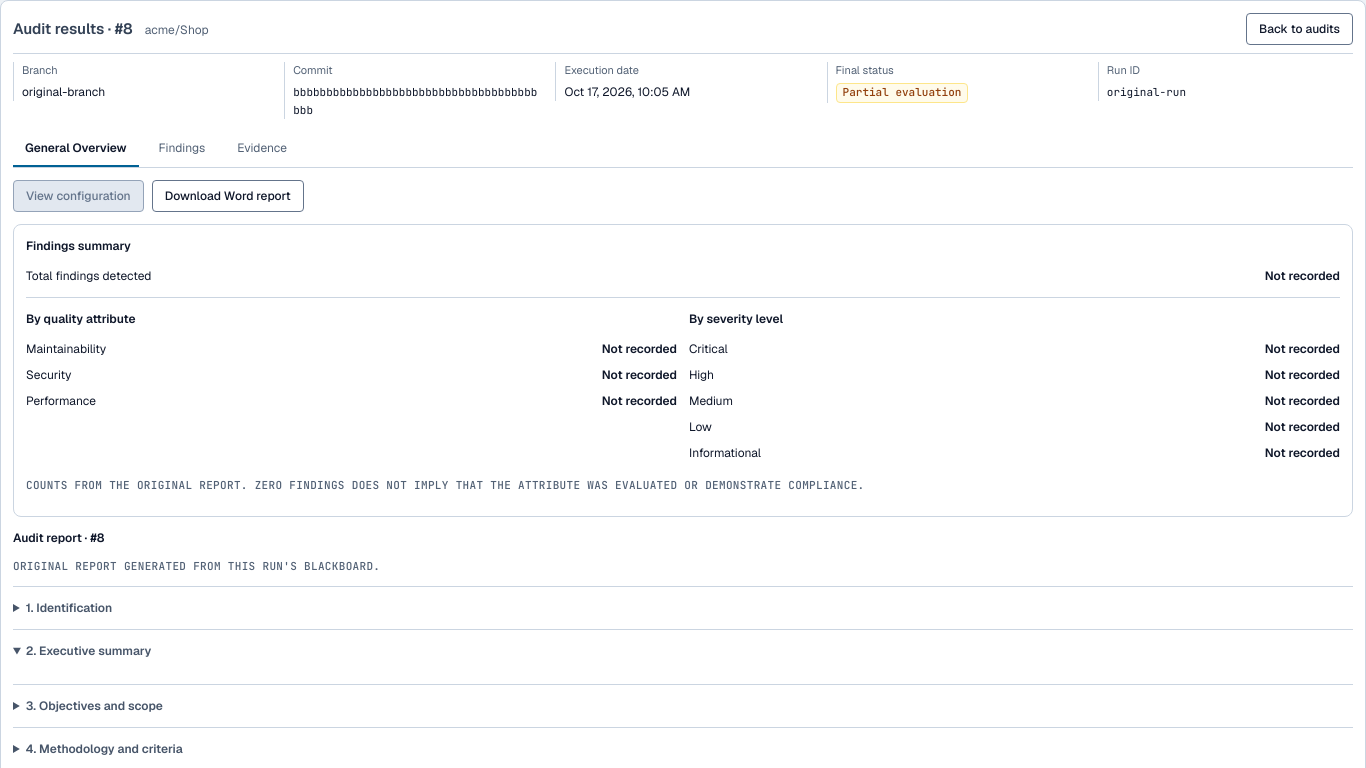
Test case: dedicated audit results › paginates cached findings by severity without downloading another report or section
This screenshot has width=1366, height=768.
Expected: the element "Findings summary" is shown, [13,224,1353,517]
Click the tab "Findings". click: (182, 148)
box: [147,130,217,166]
(page scrolled)
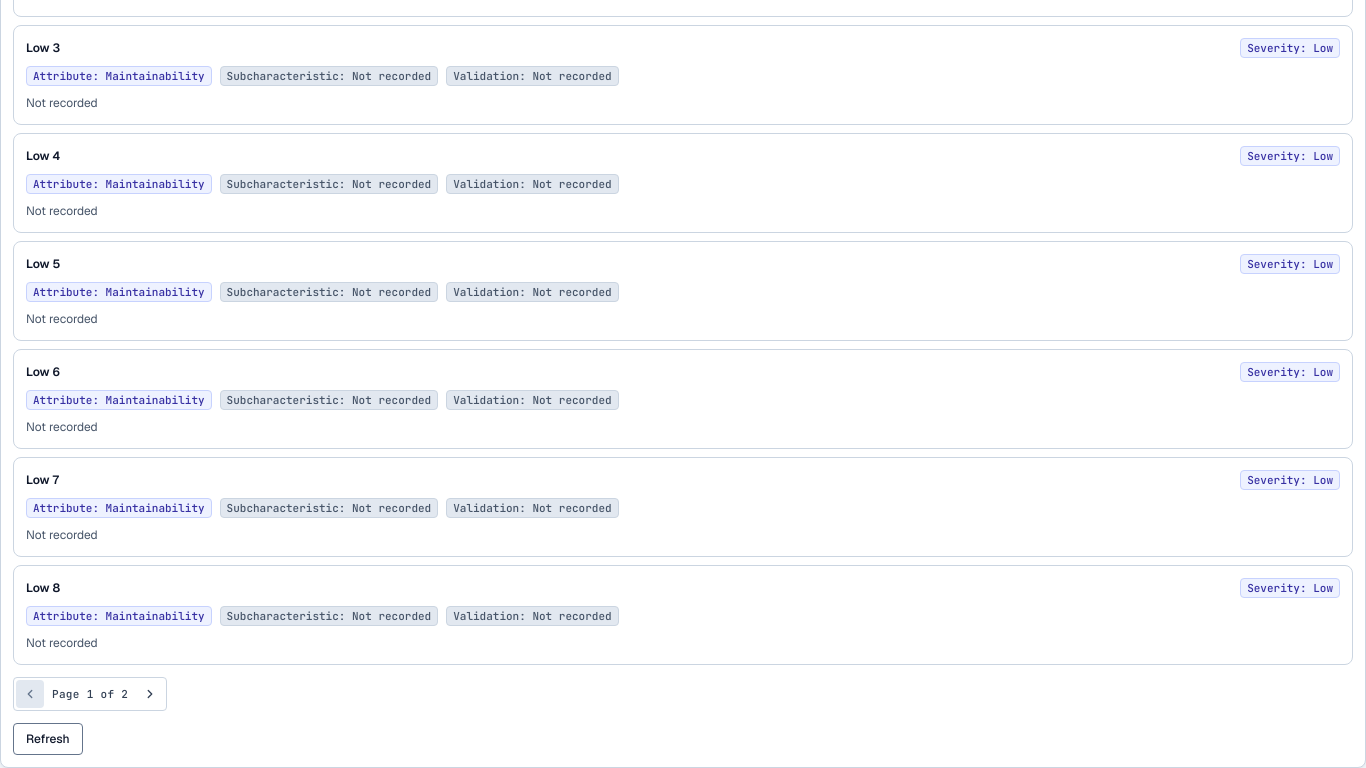
Click the button named "Next page". click: (150, 694)
box: [136,680,164,708]
(page scrolled)
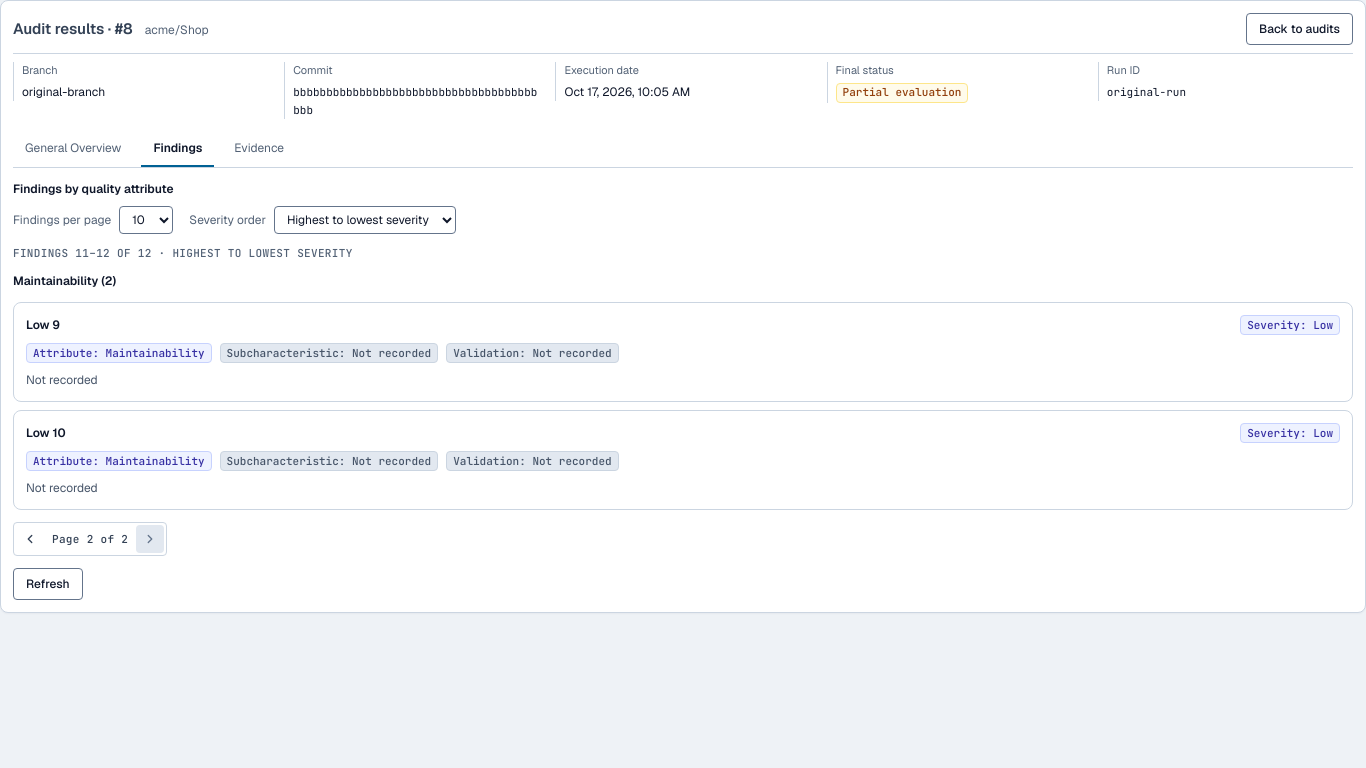
Expected: the headings read "Low 9", "Low 10", in this order, [26,316,60,334]; [26,424,66,442]
Click the button named "Previous page". click: (30, 539)
box: [16,525,44,553]
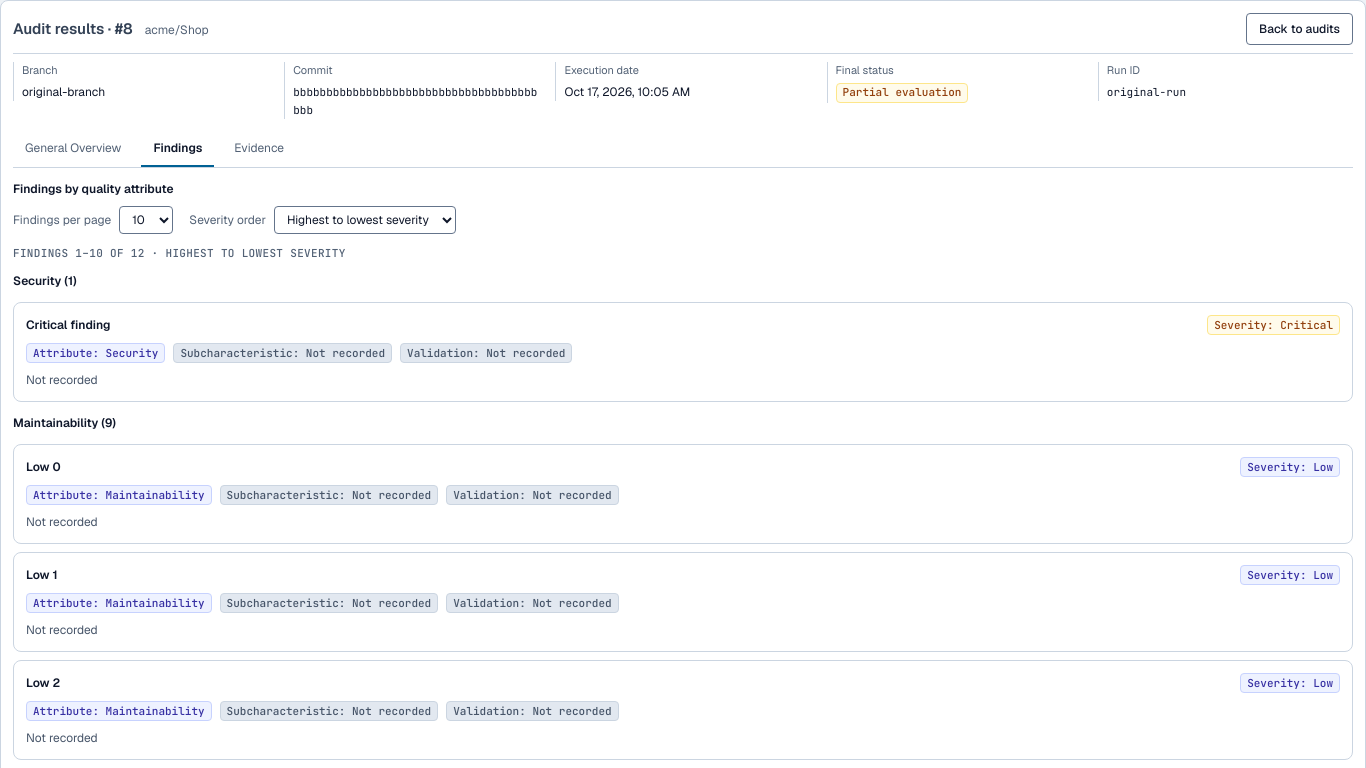
Select "20" in the dropdown labelled "Findings per page". click: (146, 220)
box: [119,206,173,234]
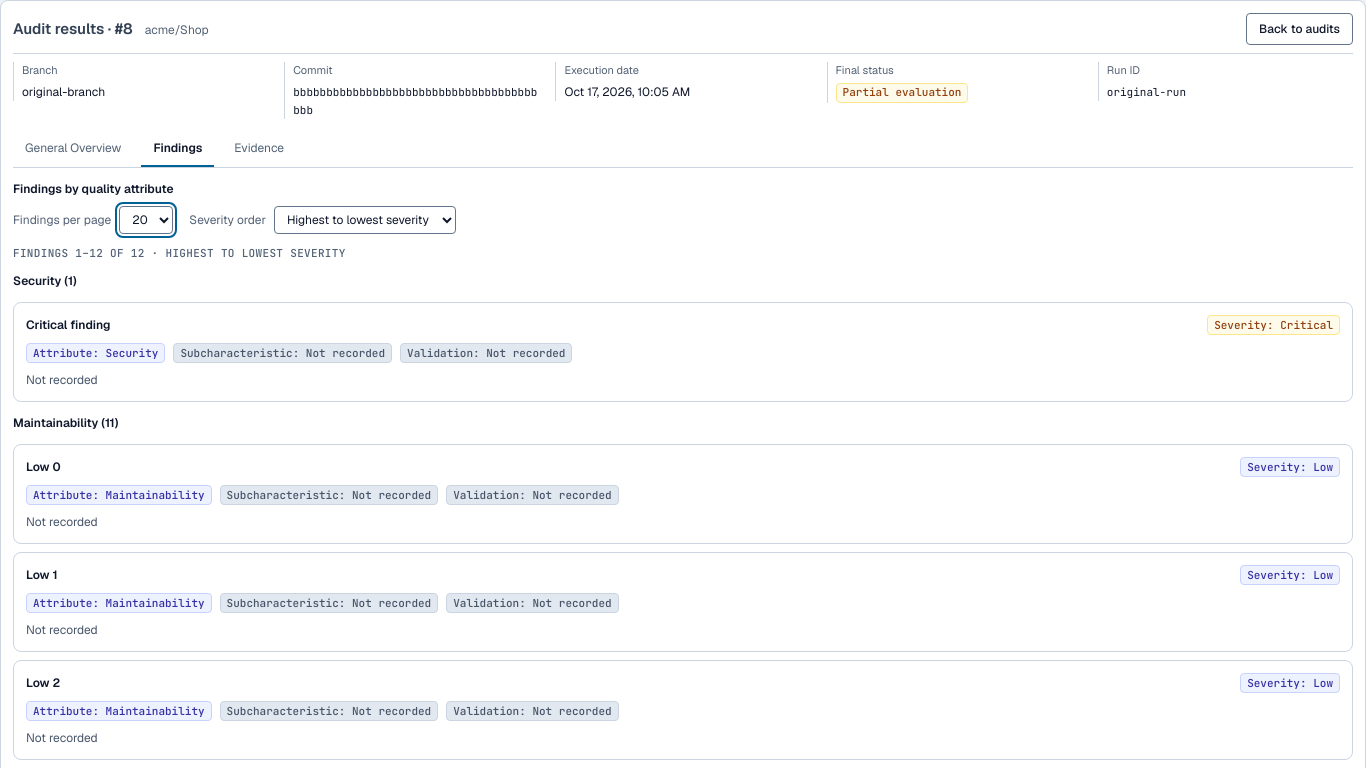
Select "Lowest to highest severity" in the dropdown labelled "Severity order". click: (365, 220)
box: [274,206,456,234]
(page scrolled)
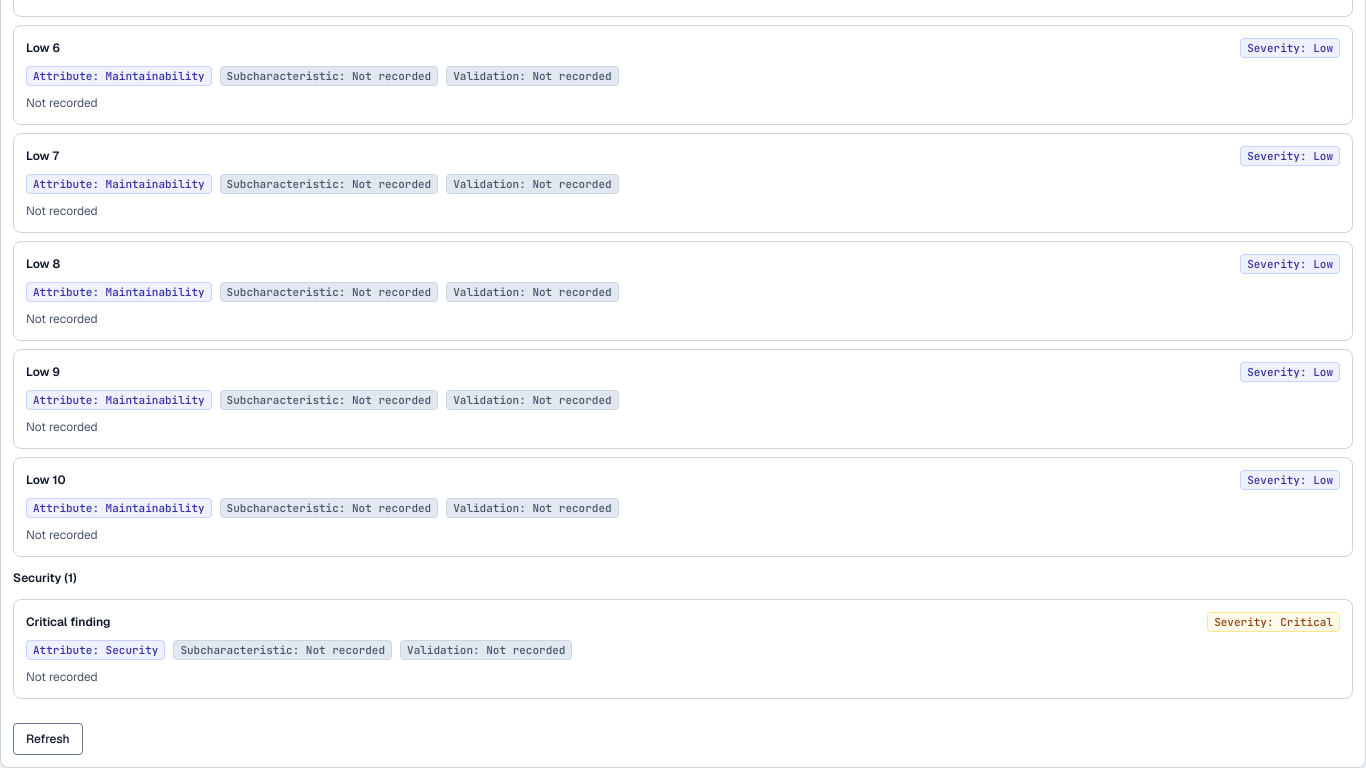
Expected: the heading "Critical finding" is shown, [26,613,110,631]
